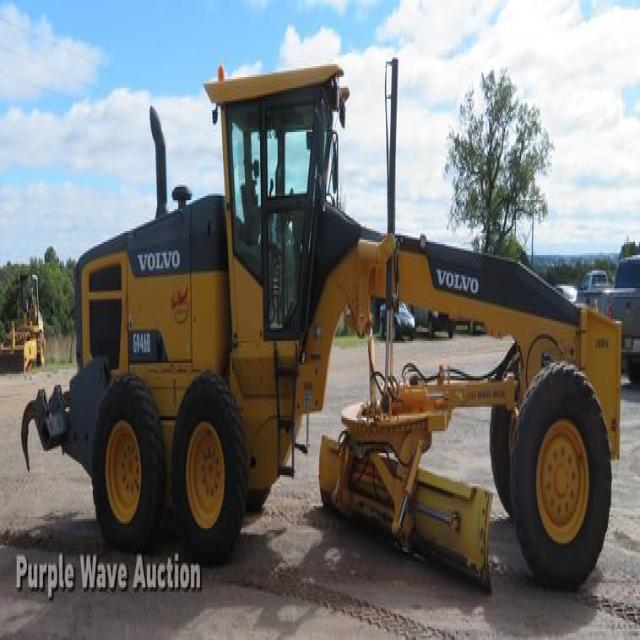Grader: (13, 53, 619, 605)
